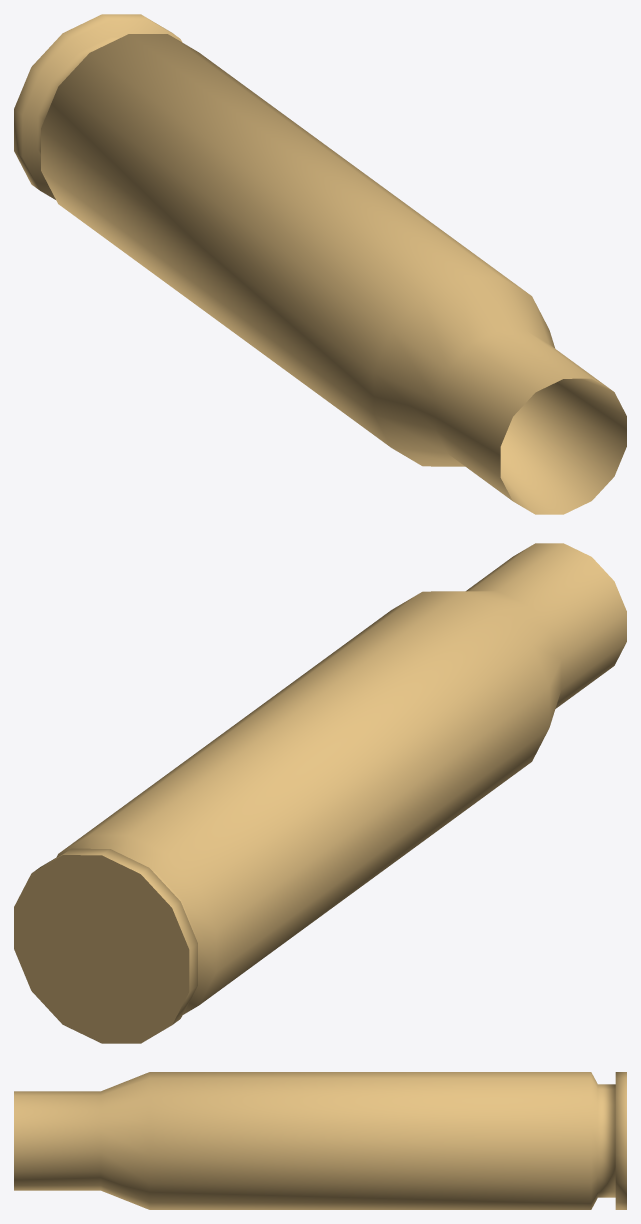
File: shell_rifle.glb
The picture shows the model from 3 angles, top to bottom: view 1: azimuth 30°, elevation 25°; view 2: azimuth 150°, elevation 25°; view 3: azimuth 270°, elevation 25°; orthographic projection. The views are drawn at different scales.
Parts seen in each view (by area): view 1: rifle_shell_LOD0; view 2: rifle_shell_LOD0; view 3: rifle_shell_LOD0.
Part boxes in pixels (x1,y1,x2,y2): rifle_shell_LOD0: (14,14,626,514); rifle_shell_LOD0: (14,543,626,1043); rifle_shell_LOD0: (14,1072,626,1209).
Size of what is drawn, in the model's own units: 0.0137 by 0.014 by 0.0624.
